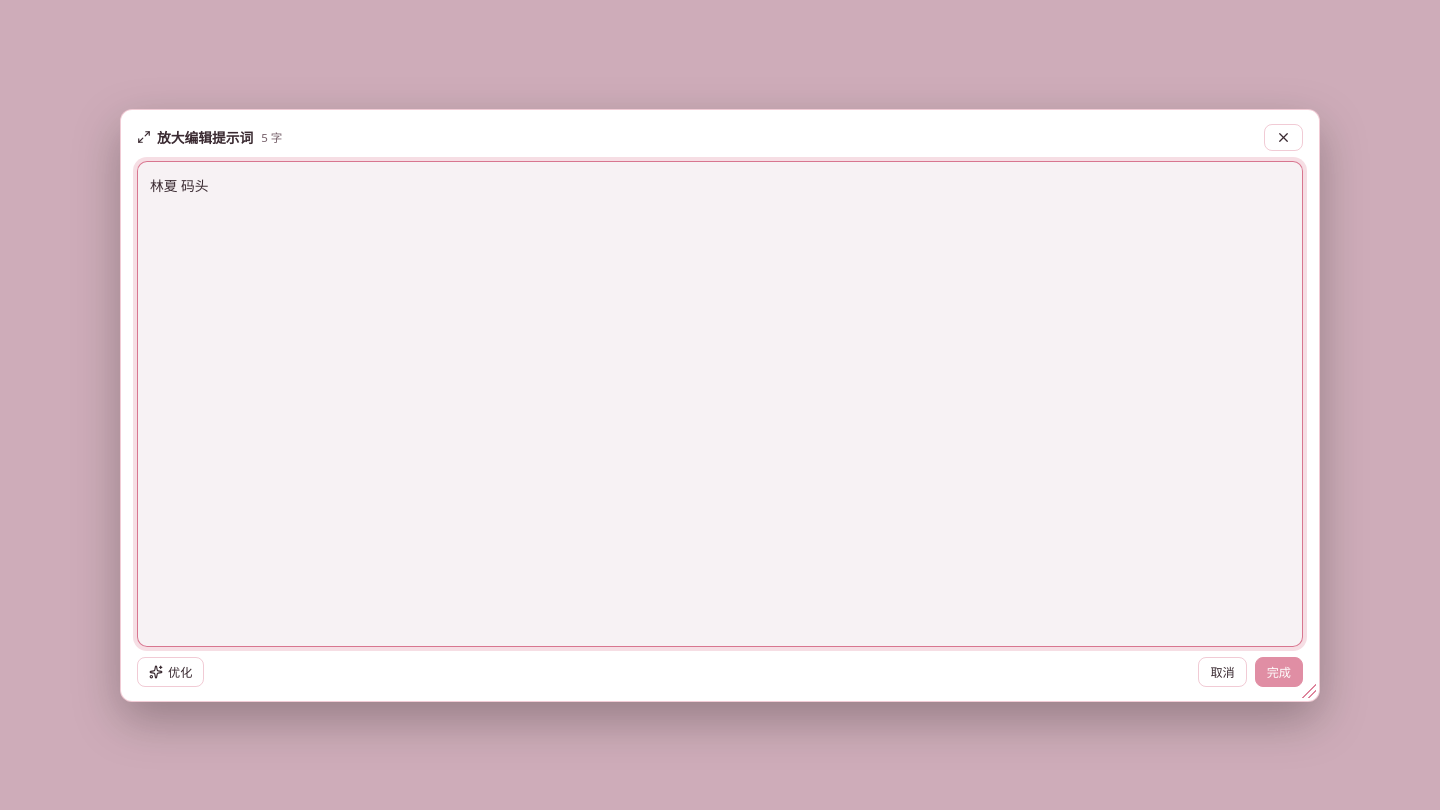
CanvasBeefPromptEditor and optimizer › edits, optimizes with the chosen model and adopts only on 采用
This screenshot has width=1440, height=810.
Later steps or results of the test are not shown.
expect the text box named "提示词" holds "林夏 码头": met, box [137,160,1303,646]
Click the button "优化": [171, 672] box [137,656,204,686]
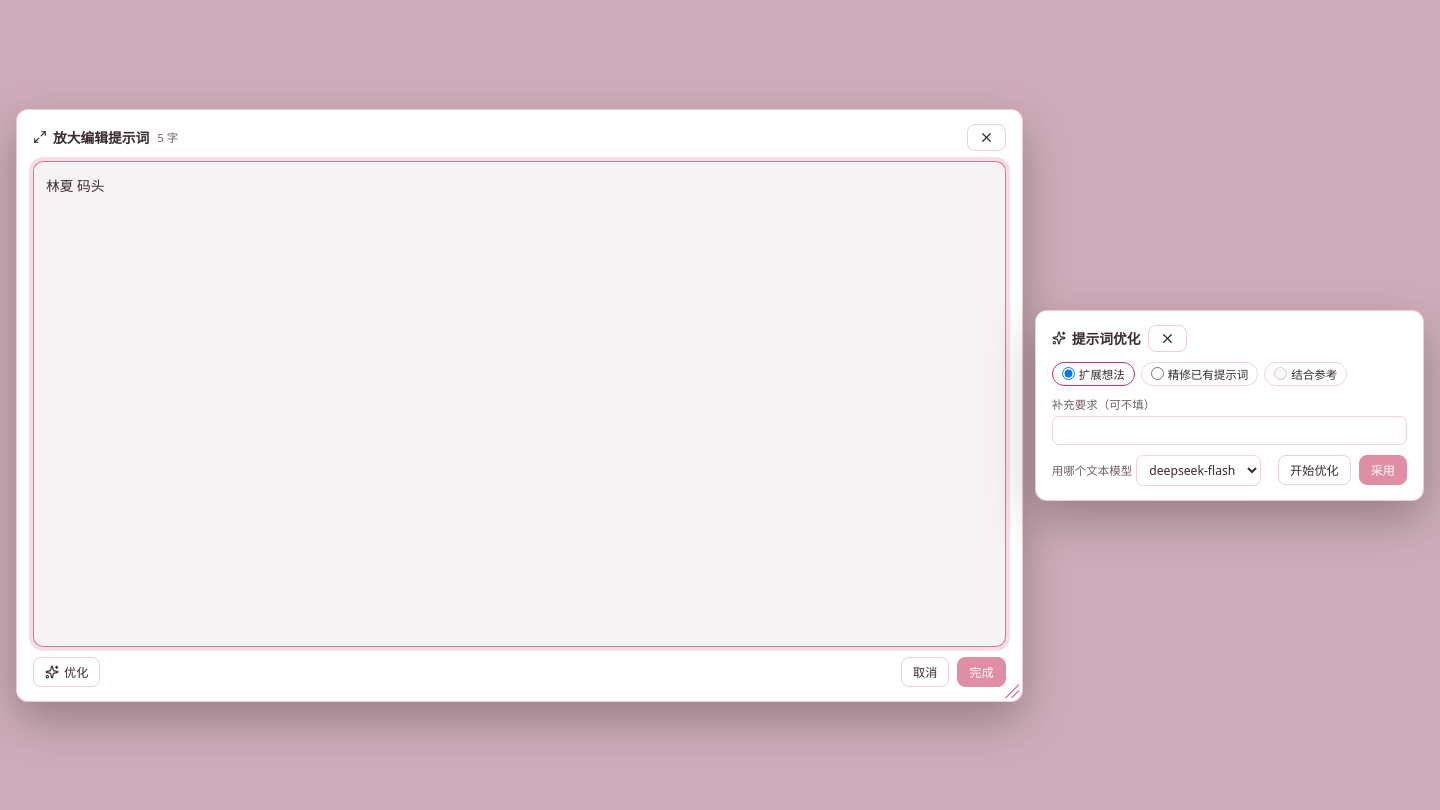
expect the number of radio buttons is 3: met, box [1062,367,1075,380]; [1151,367,1164,380]; [1274,367,1287,380]
expect the radio button labelled "结合参考" is disabled: met, box [1274,367,1287,380]
Select "qwen-max" in the dropdown: [1199, 470] box [1136,454,1261,486]
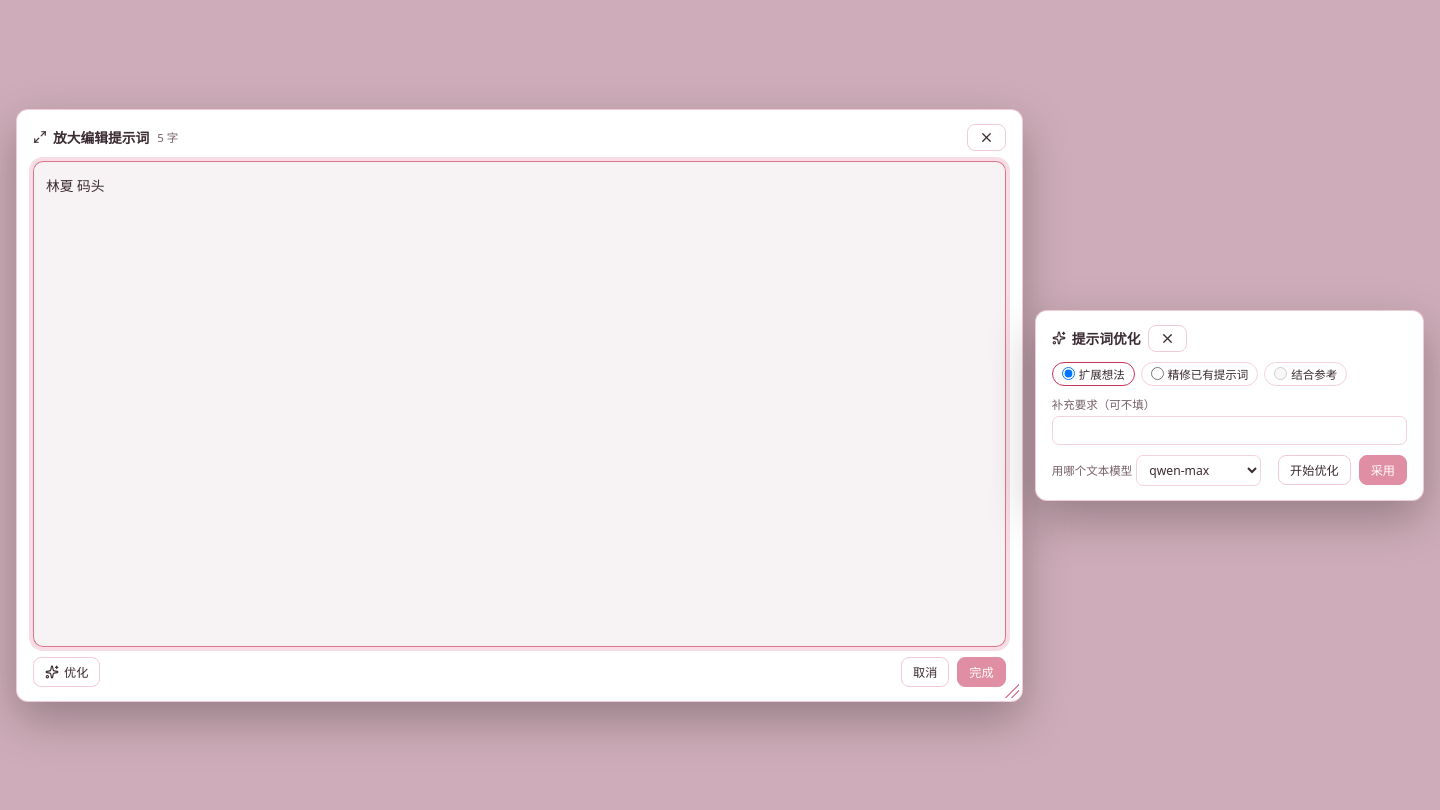
Click the button "开始优化": [1314, 470] box [1278,455,1351,485]
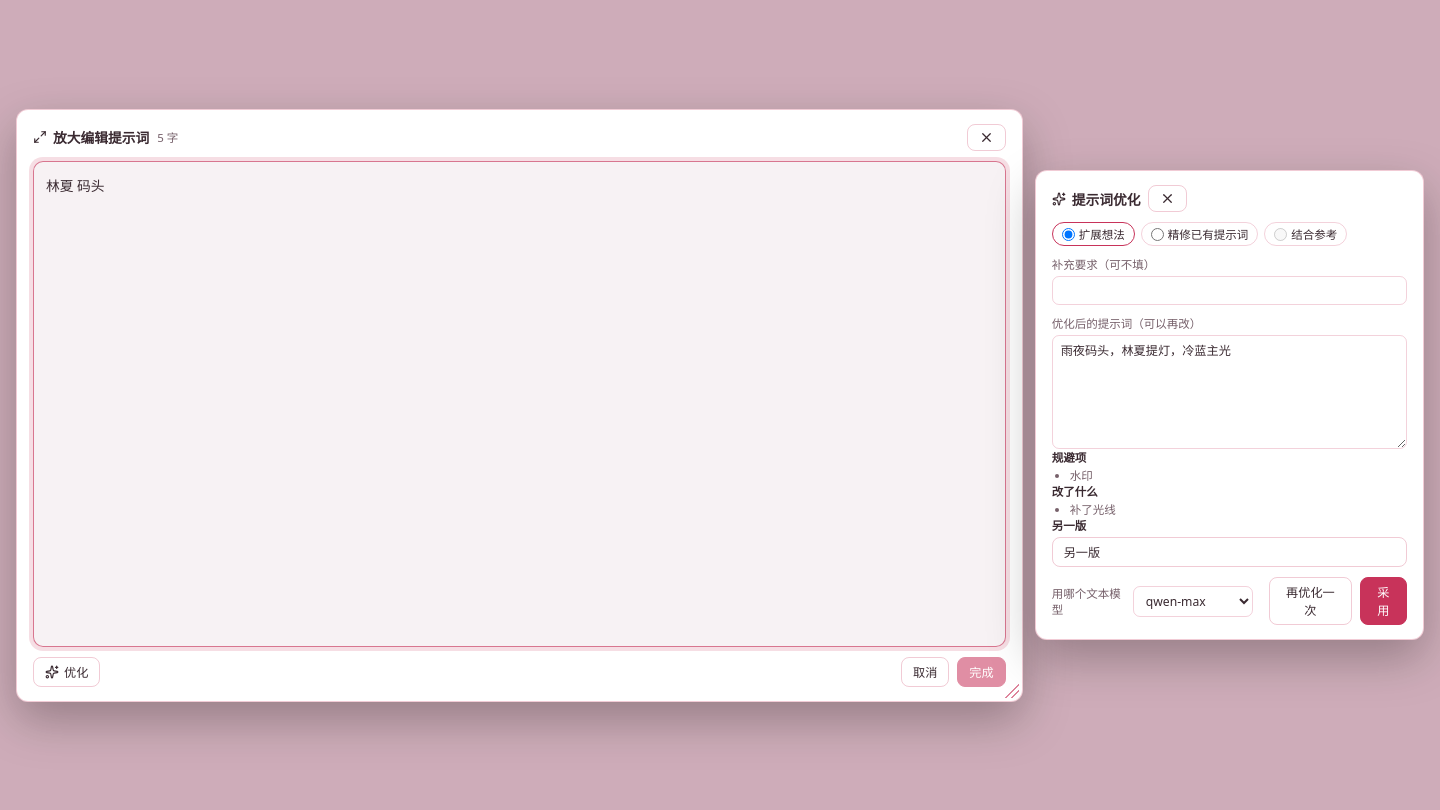
expect the text box named "提示词" holds "林夏 码头": met, box [33,160,1006,646]
expect the text box labelled "优化后的提示词（可以再改）" holds "雨夜码头，林夏提灯，冷蓝主光": met, box [1052,335,1407,449]
Click the button "另一版": [1082, 553] box [1052,537,1407,567]
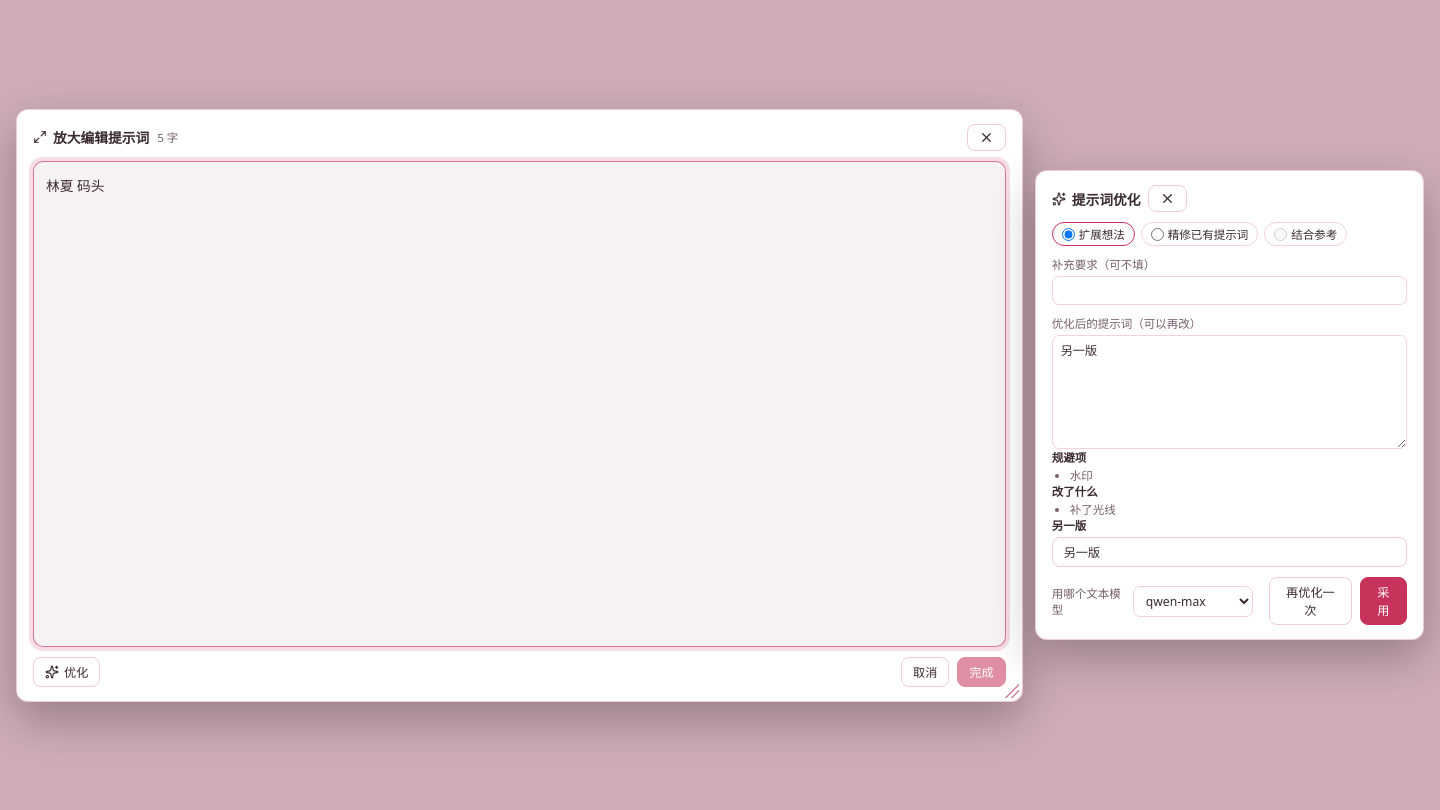
expect the text box labelled "优化后的提示词（可以再改）" holds "另一版": met, box [1052,335,1407,449]
Click the button "采用": [1383, 601] box [1360,577,1407,625]
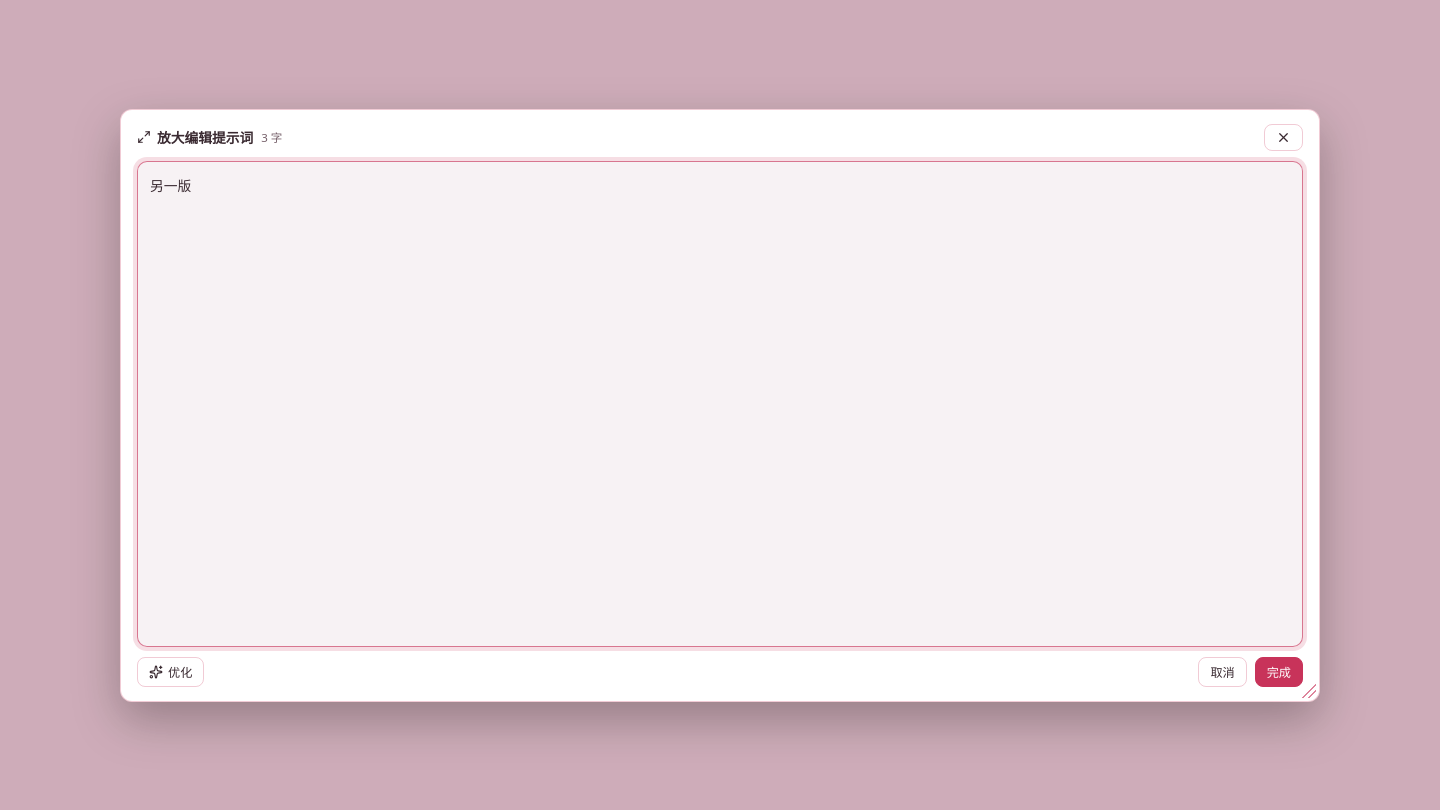
expect the dialog "提示词优化" is gone: met
expect the text box named "提示词" holds "另一版": met, box [137,160,1303,646]
